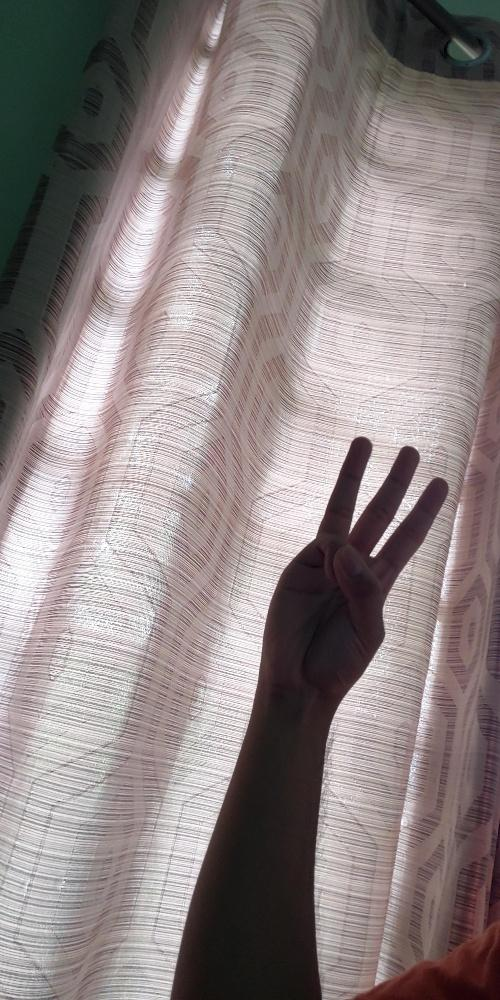w: (259, 433, 449, 703)
